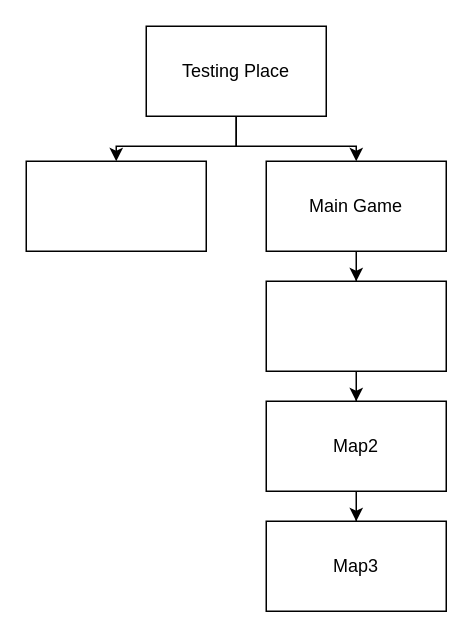
This 473x638 diagram has some shape labels left out. The shapes that lost their labels are listed below. From the top down, each one's centre as x and y in pixels, then its label:
(x=115, y=205): Main Menu
(x=355, y=325): Map1
